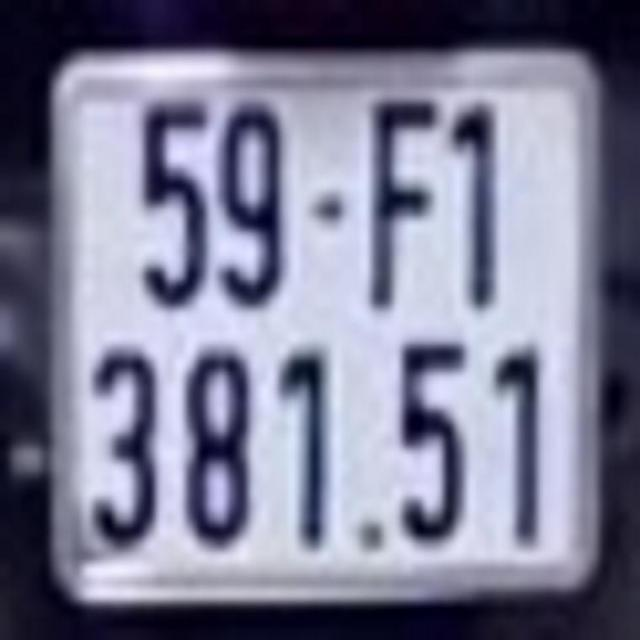1: (274, 352, 329, 545), (453, 90, 500, 305), (500, 326, 542, 542)
3: (90, 344, 158, 544)
5: (400, 332, 468, 550), (146, 97, 210, 298)
8: (187, 352, 251, 540)
9: (224, 102, 278, 300)
F: (370, 94, 442, 318)
